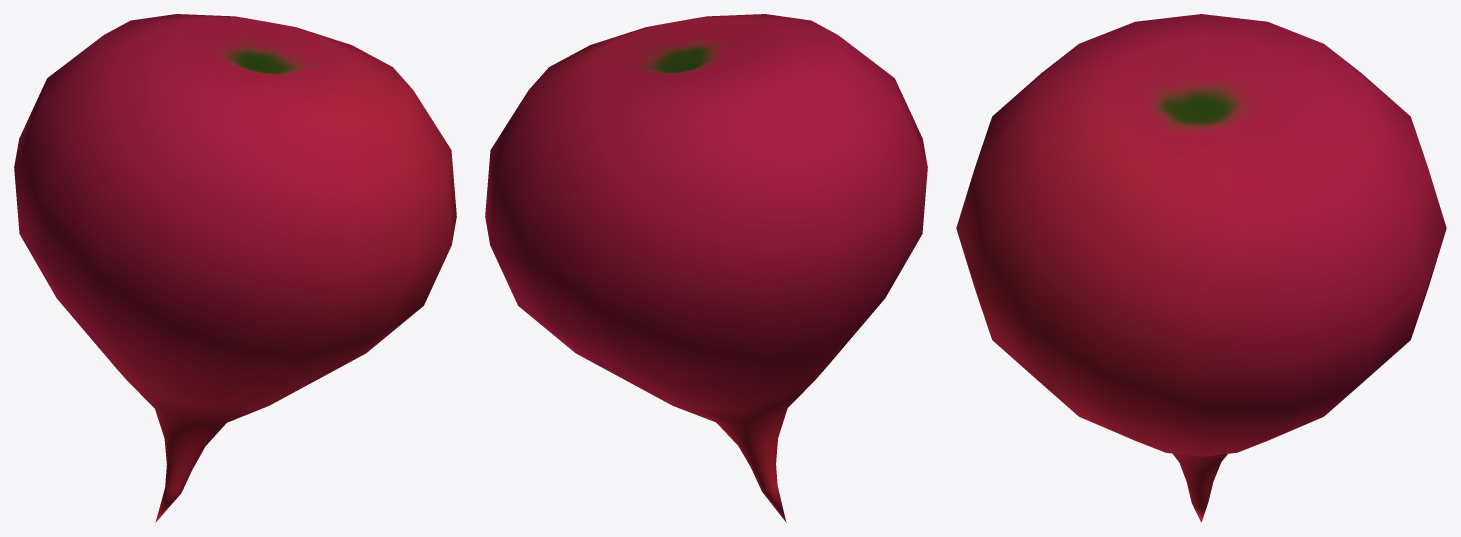
File: BeetRoot.fbx
The picture shows the model from 3 angles, left to right: view 1: azimuth 30°, elevation 25°; view 2: azimuth 150°, elevation 25°; view 3: azimuth 270°, elevation 25°; orthographic projection. The views are drawn at different scales.
Visible parts, largest first — view 1: BeetRoot; view 2: BeetRoot; view 3: BeetRoot.
Part boxes in pixels (x1,y1,x2,y2): BeetRoot: (14, 14, 456, 522); BeetRoot: (485, 14, 927, 522); BeetRoot: (956, 14, 1446, 522).
Bounding box in the file's own units: 262 × 300 × 266.
1 material, 1 textured.
